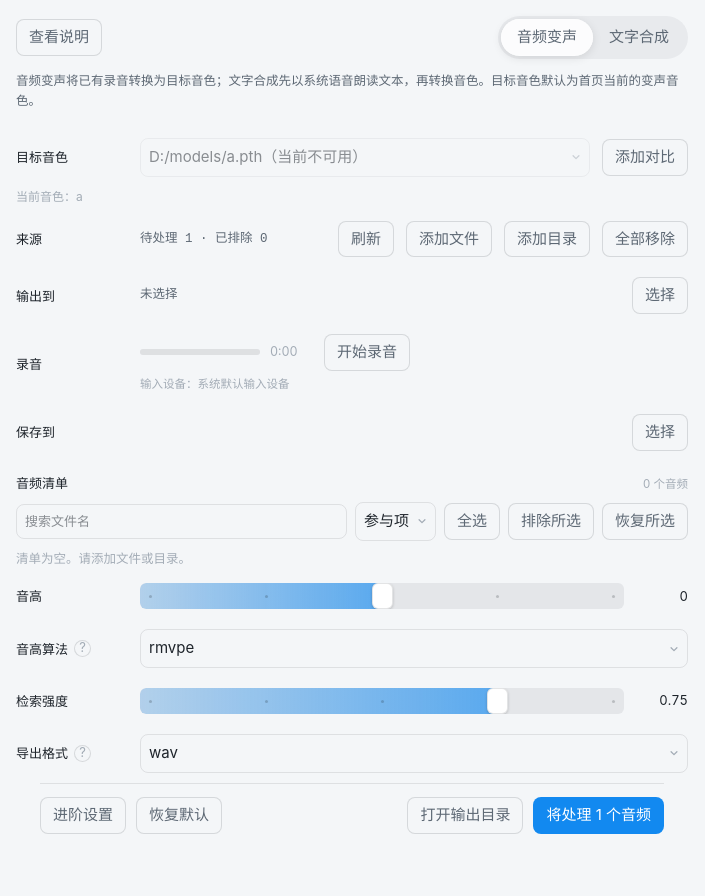
TtsPanel STS 任务生命周期 › 本单收尾后迟到的旧凭证事件：不进账本、不被误认归属
Click the button "将处理 1 个音频": (599, 815) [534,797,664,834]
Wait 2000 ms
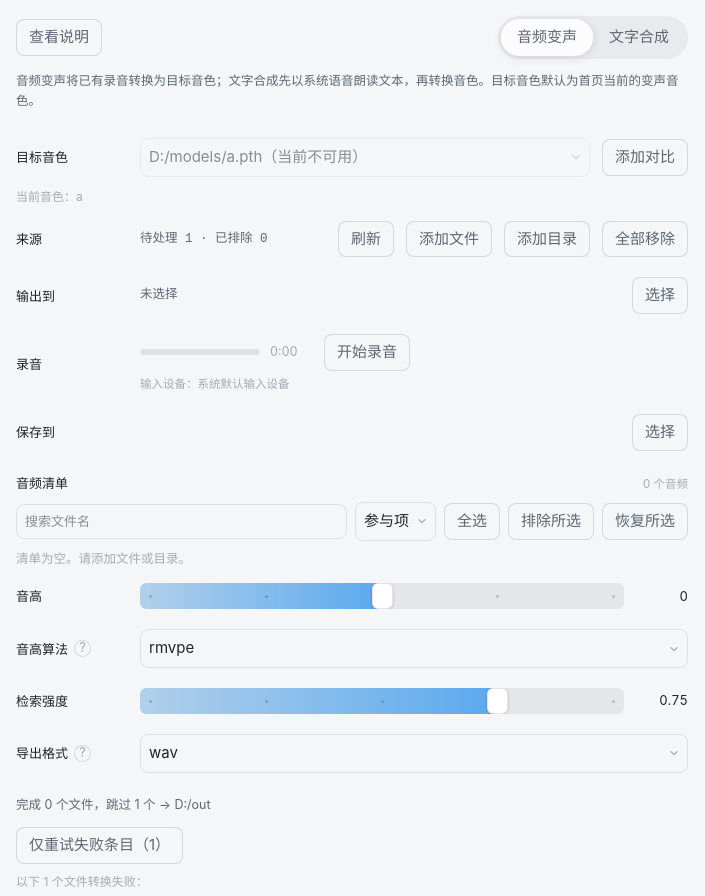
Expected: the button "添加目录" is enabled, [504,220,590,257]
Now the button "仅重试失败条目（1）" is shown, box [16,827,183,864]
